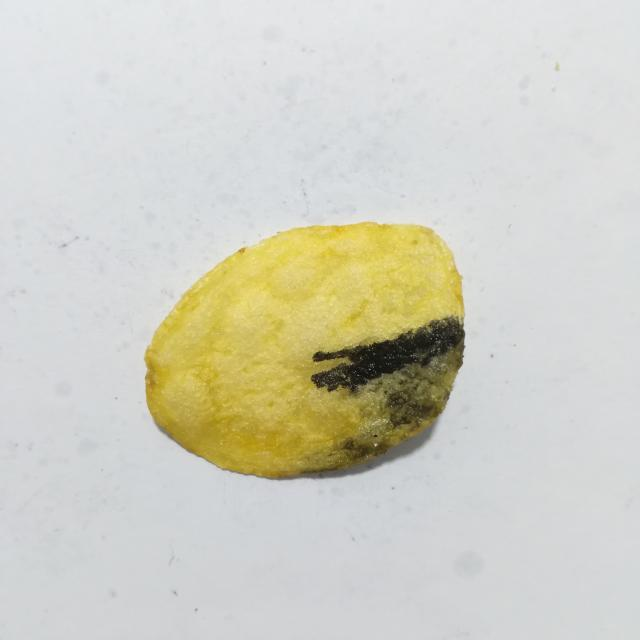chip: (145, 223, 464, 477)
damaged: (312, 316, 464, 392)
semi-damaged: (300, 340, 464, 473)
